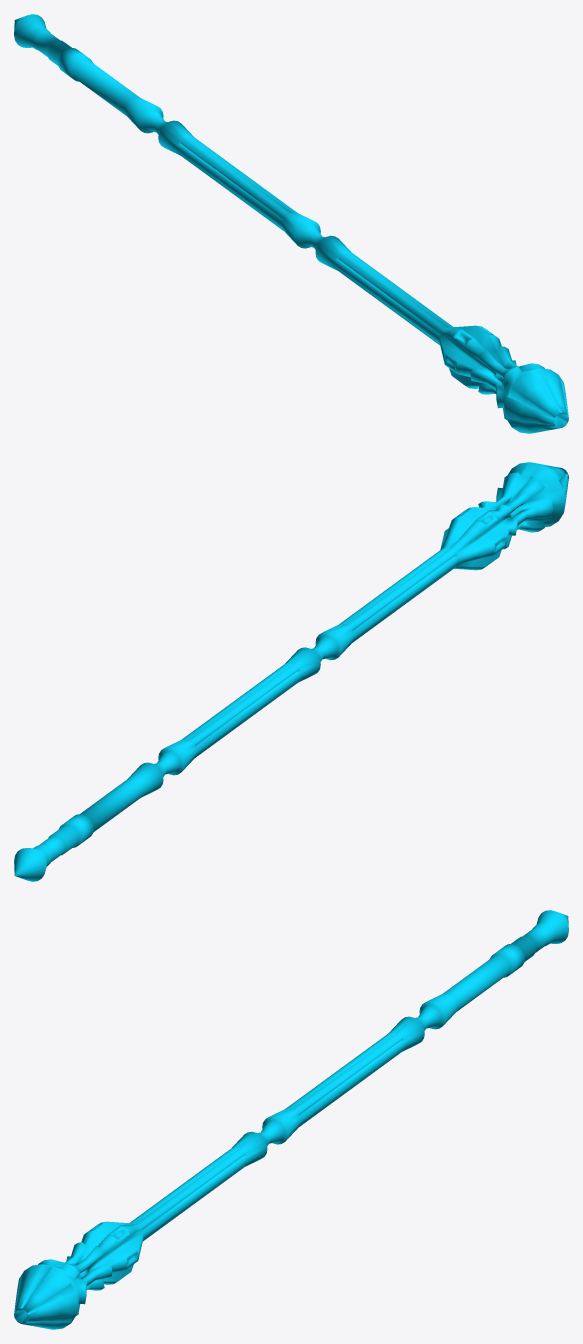
Rendered from Club1Main.fbx.
3 views of the same model, one above another, from view 1: azimuth 30°, elevation 25°; view 2: azimuth 150°, elevation 25°; view 3: azimuth 330°, elevation 25° (orthographic).
Visible parts, largest first — view 1: SpearClub_low; view 2: SpearClub_low; view 3: SpearClub_low.
Part boxes in pixels (x1=…): SpearClub_low: x1=14, y1=14, x2=568, y2=433; SpearClub_low: x1=14, y1=462, x2=568, y2=881; SpearClub_low: x1=14, y1=910, x2=568, y2=1329.
Size of the model in its own units: 201 by 198 by 3109.
